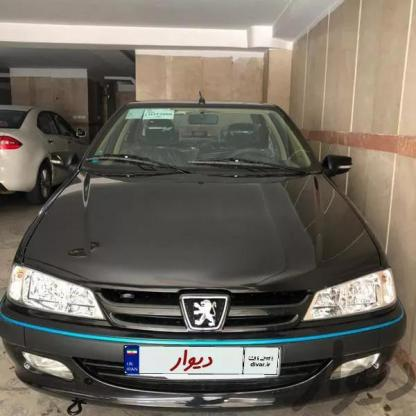Car: (0, 91, 416, 416), (0, 104, 101, 213)
